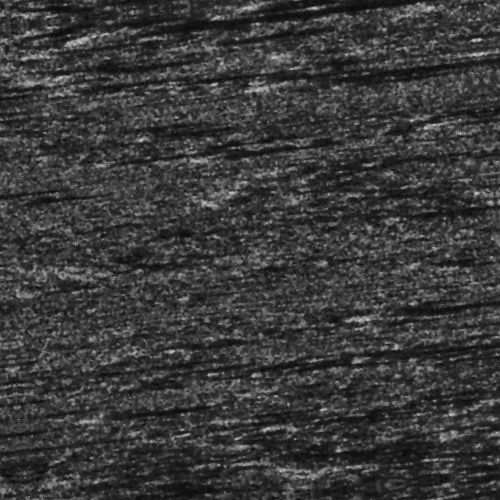object: (203, 80, 390, 95), (92, 11, 165, 26), (243, 0, 296, 12), (200, 407, 253, 418), (32, 25, 95, 34), (200, 147, 263, 152), (59, 50, 112, 55), (54, 395, 107, 400), (238, 424, 291, 429), (484, 453, 500, 460), (157, 122, 188, 125), (92, 67, 123, 70), (189, 37, 220, 40), (347, 325, 378, 328), (118, 141, 129, 148)
shadow: (129, 11, 429, 26), (297, 80, 467, 95), (270, 0, 465, 12), (64, 25, 248, 34), (124, 141, 322, 148), (227, 407, 306, 418), (265, 424, 426, 429), (86, 50, 237, 55), (232, 147, 357, 152), (0, 161, 80, 168), (81, 395, 193, 400), (363, 325, 500, 328), (204, 37, 322, 40), (173, 122, 254, 125), (0, 66, 79, 69), (107, 67, 184, 70)
